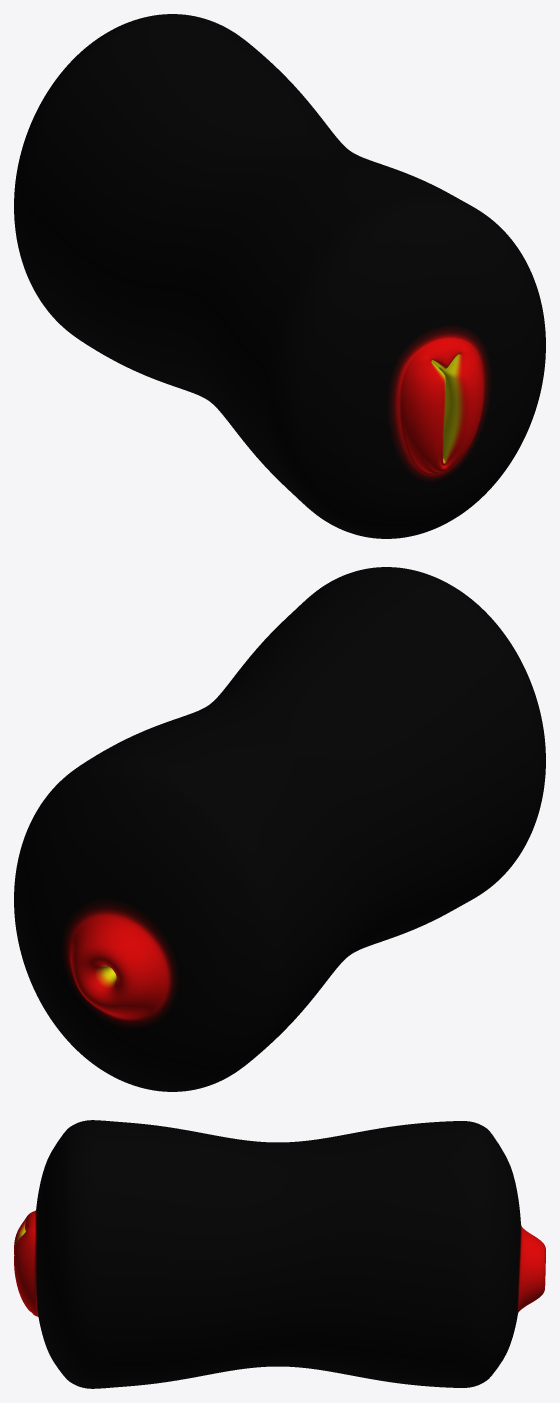
The model's file is Poche_Sablier_Traversante.fbx.
The picture shows the model from 3 angles, top to bottom: view 1: azimuth 30°, elevation 25°; view 2: azimuth 150°, elevation 25°; view 3: azimuth 270°, elevation 25°; orthographic projection. The views are drawn at different scales.
Parts seen in each view (by area): view 1: Poche_Sablier_Traversante; view 2: Poche_Sablier_Traversante; view 3: Poche_Sablier_Traversante.
Boxes of the visible parts, x1,y1,x2,y2 form: Poche_Sablier_Traversante: (14, 14, 545, 538); Poche_Sablier_Traversante: (14, 567, 545, 1091); Poche_Sablier_Traversante: (14, 1120, 545, 1388).
Size of the model in its own units: 0.1158 by 0.1357 by 0.2619.
